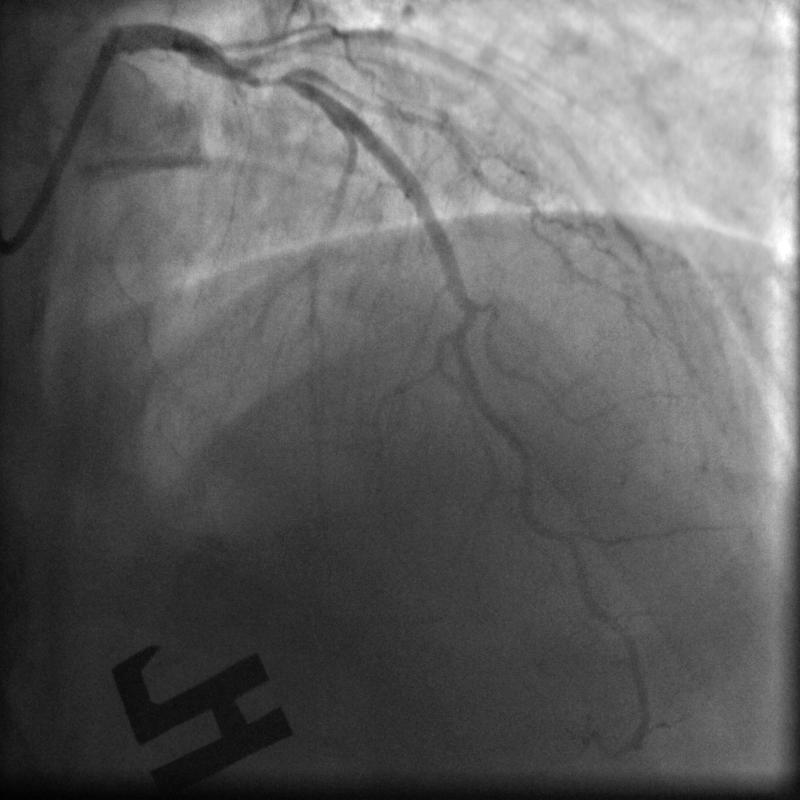Stenosis: (238, 59, 305, 95)
